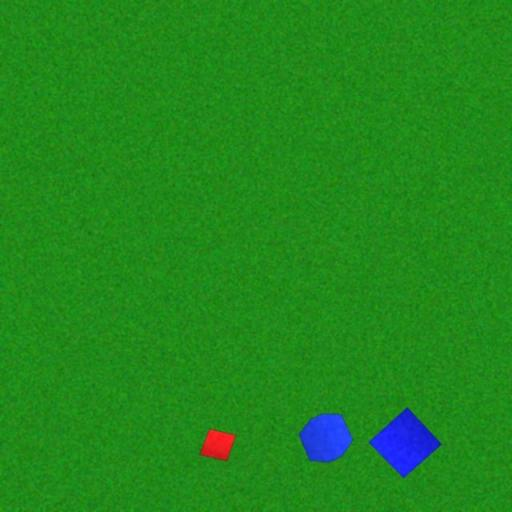BLUE_SQUARE: (368, 406, 442, 480)
RED_SQUARE: (198, 428, 237, 462)
